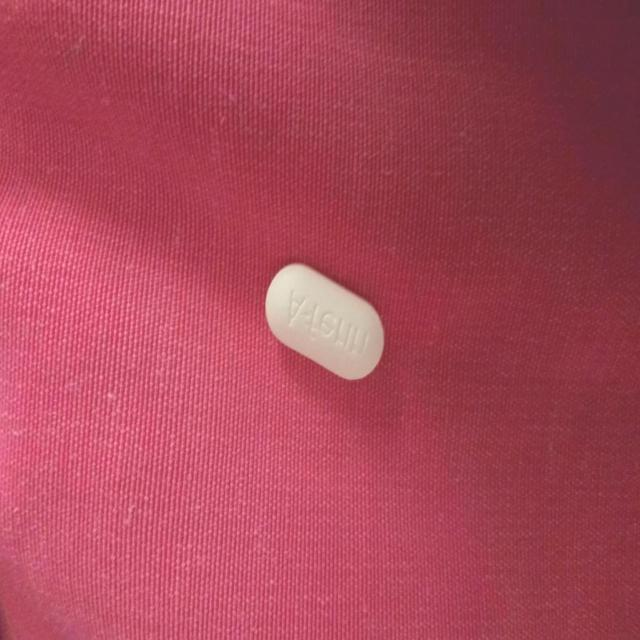pill: (266, 256, 386, 386)
